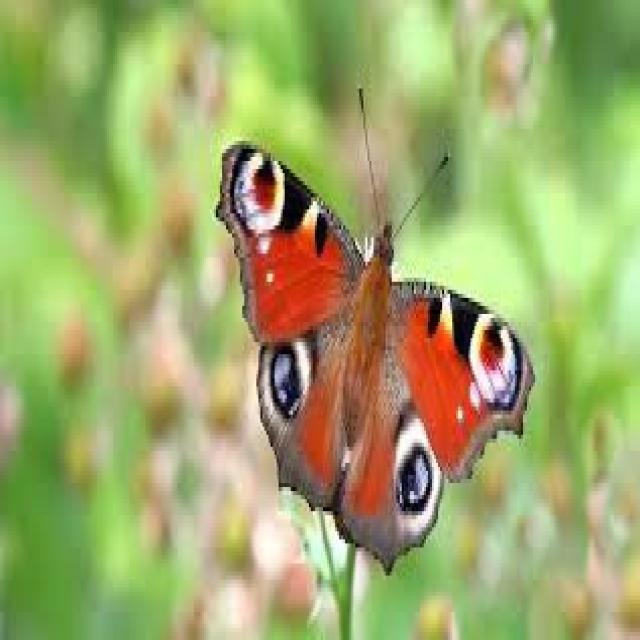butterfly: (226, 125, 510, 566)
